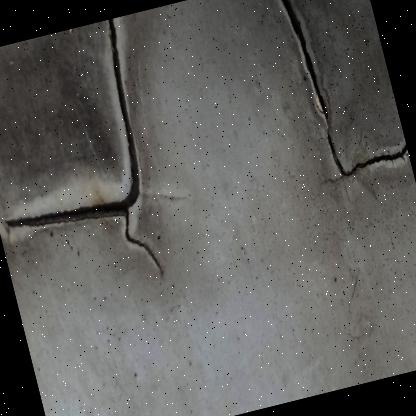Crack: (0, 13, 199, 316), (258, 0, 415, 212)
